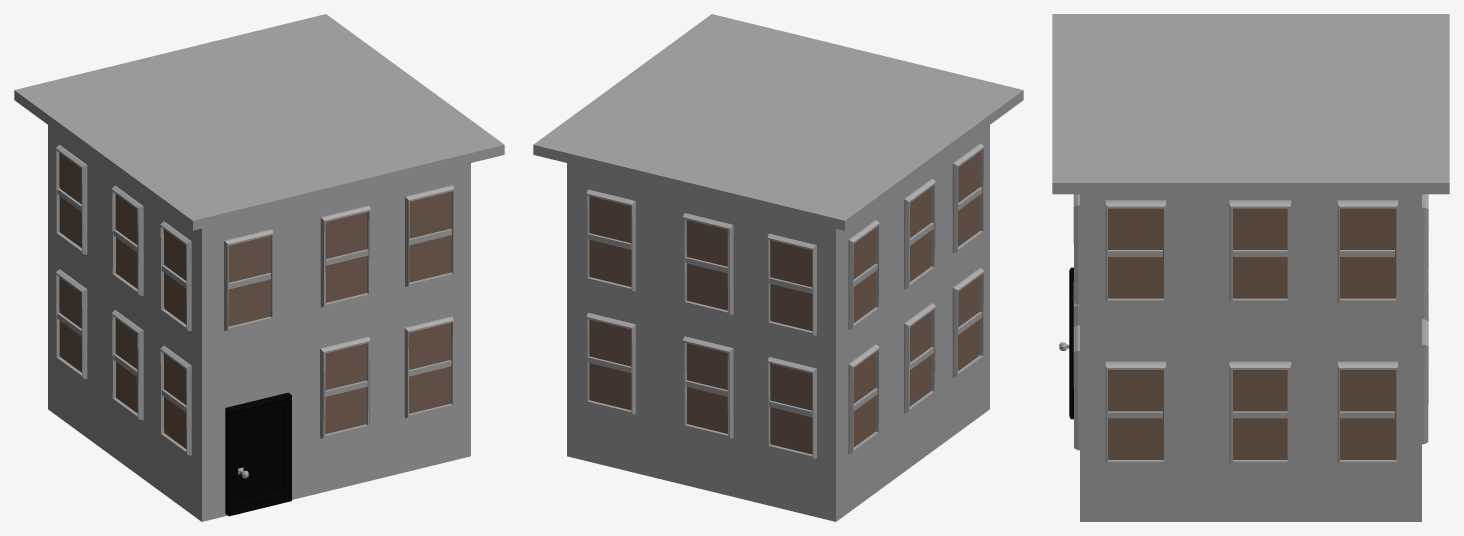
File: GhettoApartment2.fbx
3 views of the same model, side by side, from view 1: azimuth 30°, elevation 25°; view 2: azimuth 150°, elevation 25°; view 3: azimuth 270°, elevation 25° (orthographic). The views are drawn at different scales.
Visible parts, largest first — view 1: pCube144, polySurface323, polySurface337, polySurface333, polySurface334, pSphere13; view 2: pCube144, polySurface331, polySurface332, polySurface333, polySurface334; view 3: pCube144, polySurface326, polySurface325, polySurface332, polySurface337, pSphere13, polySurface331, polySurface323.
Part boxes in pixels (x1,y1,x2,y2): pCube144: (14,14,504,521); polySurface323: (224,185,454,330); polySurface337: (320,316,453,438); polySurface333: (55,269,191,455); polySurface334: (55,145,191,331); pSphere13: (225,392,291,516); pCube144: (533,14,1023,521); polySurface331: (586,189,816,335); polySurface332: (586,313,816,458); polySurface333: (848,268,983,454); polySurface334: (848,143,983,329); pCube144: (1052,14,1449,521); polySurface326: (1105,200,1398,302); polySurface325: (1105,361,1398,463); polySurface332: (1422,267,1428,444); polySurface337: (1073,282,1079,450); pSphere13: (1059,267,1073,419); polySurface331: (1422,194,1428,307); polySurface323: (1073,194,1079,304).
Size of the model in its own units: 30.67 by 29.63 by 30.43.
